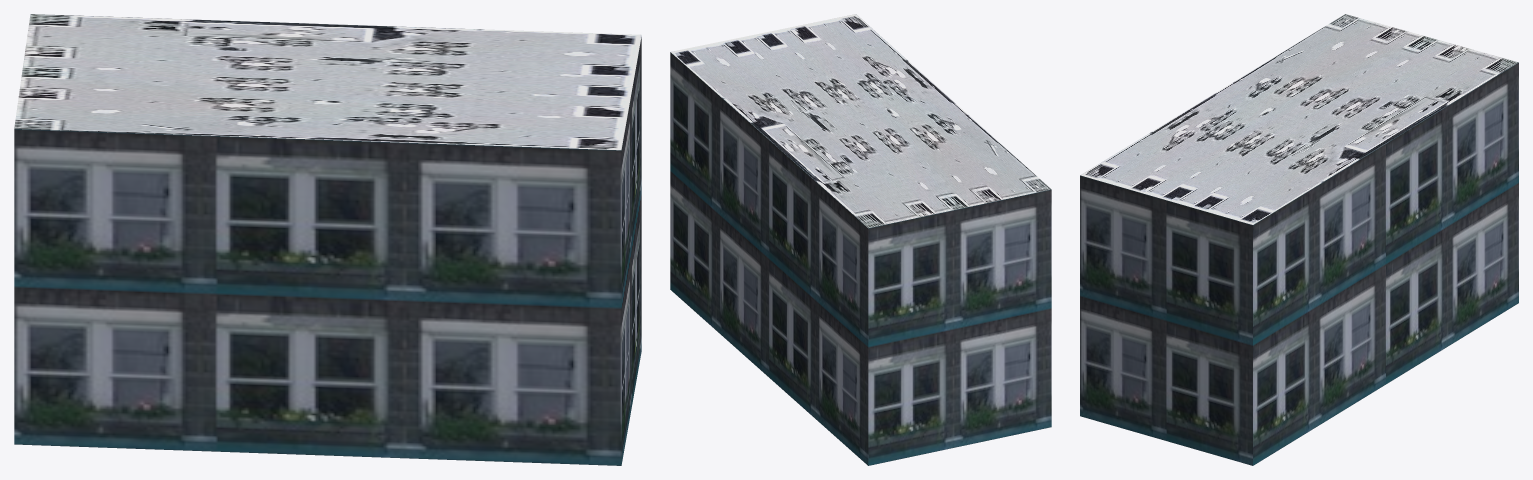
File: ResTex__3211.fbx
The picture shows the model from 3 angles, left to right: view 1: azimuth 30°, elevation 25°; view 2: azimuth 150°, elevation 25°; view 3: azimuth 270°, elevation 25°; orthographic projection. The views are drawn at different scales.
Parts seen in each view (by area): view 1: CityEngineMaterial_11_m, CityEngineMaterial_m; view 2: CityEngineMaterial_11_m, CityEngineMaterial_m; view 3: CityEngineMaterial_11_m, CityEngineMaterial_m.
Part boxes in pixels (x1,y1,x2,y2): CityEngineMaterial_11_m: (14,37,641,465); CityEngineMaterial_m: (14,14,641,150); CityEngineMaterial_11_m: (670,52,1051,465); CityEngineMaterial_m: (671,14,1051,228); CityEngineMaterial_11_m: (1080,62,1518,465); CityEngineMaterial_m: (1080,14,1518,224).
Bounding box in the file's own units: 11.28 × 6 × 9.91.
Materials: 2 (2 with a texture image).
